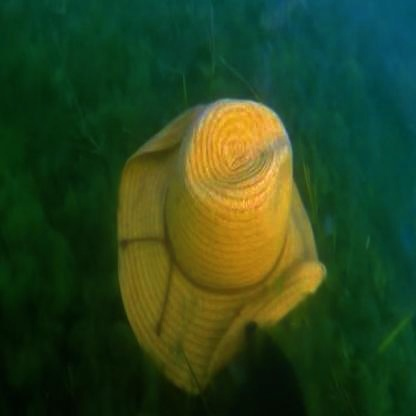misc: (101, 101, 339, 389)
